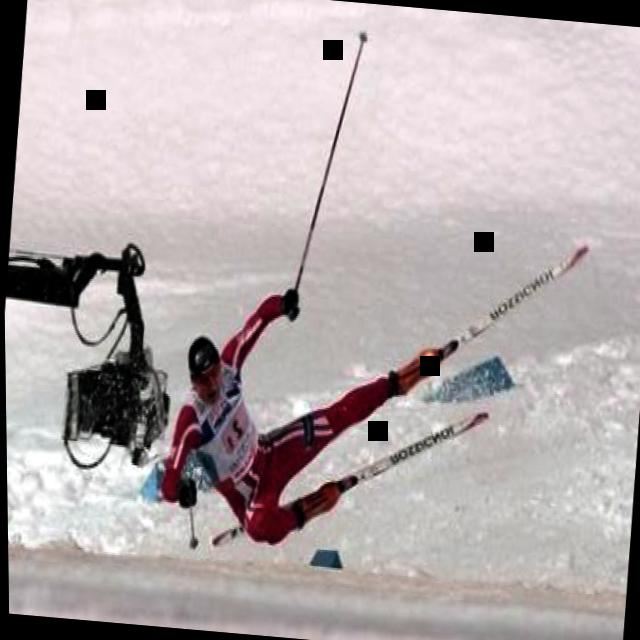Fall-Detected: (140, 249, 481, 578)
